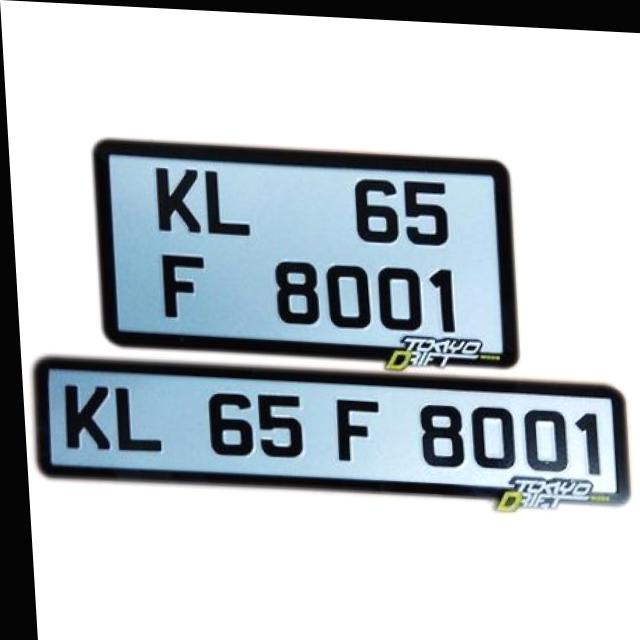0: (371, 260, 422, 329), (321, 258, 370, 328), (464, 399, 513, 468), (518, 402, 565, 468)
1: (425, 262, 458, 330), (566, 407, 600, 470)
5: (250, 388, 302, 458), (399, 175, 451, 244)
6: (201, 387, 253, 457), (350, 174, 401, 243)
8: (412, 399, 462, 465), (269, 257, 319, 322)
f: (326, 392, 381, 461), (154, 249, 206, 321)
k: (56, 381, 111, 455), (147, 164, 203, 234)
l: (105, 382, 164, 454), (198, 166, 251, 235)
